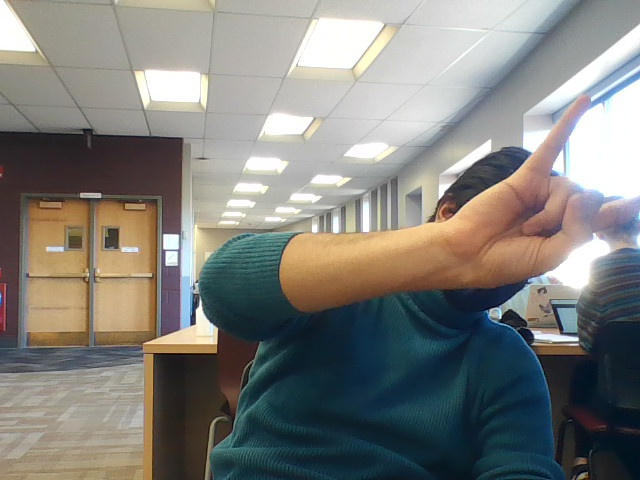help: (457, 89, 640, 296)
